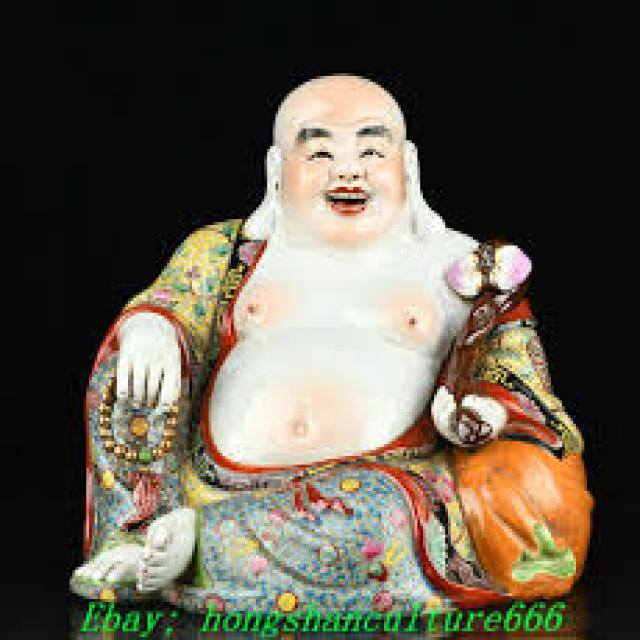Smiling Buddha: (191, 68, 479, 594)
